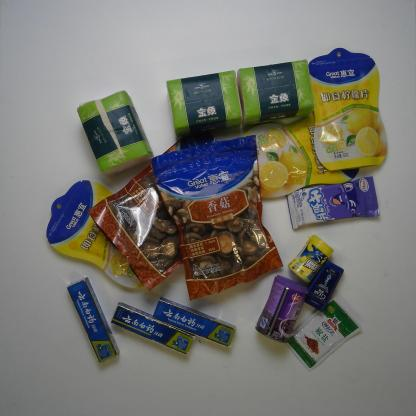Candy: (285, 175, 381, 230)
Canned Food: (255, 274, 309, 344)
Dried Food: (86, 136, 233, 292), (151, 132, 283, 302)
Dried Fruit: (46, 180, 163, 290), (243, 110, 360, 200), (308, 47, 388, 172)
Gum: (287, 234, 334, 284)
Personal Hygiene: (67, 276, 120, 364), (110, 301, 196, 355), (152, 295, 236, 348), (303, 260, 345, 313)
Seasoner: (284, 298, 362, 372)
Tissue: (77, 90, 154, 178), (165, 69, 243, 137), (238, 59, 315, 126)
